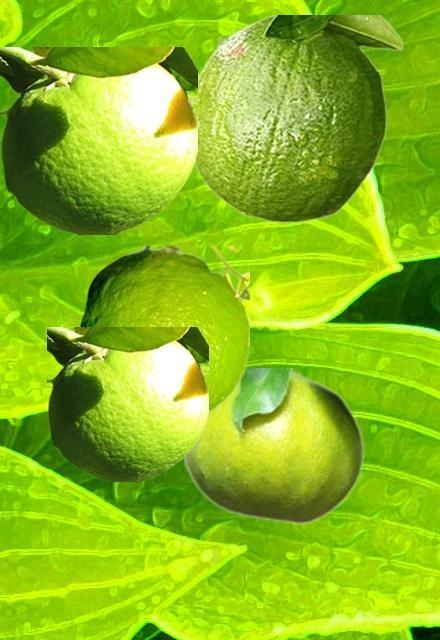dalandan: (191, 15, 403, 222), (0, 47, 196, 233), (79, 246, 248, 415), (182, 368, 364, 524), (47, 327, 207, 480)
